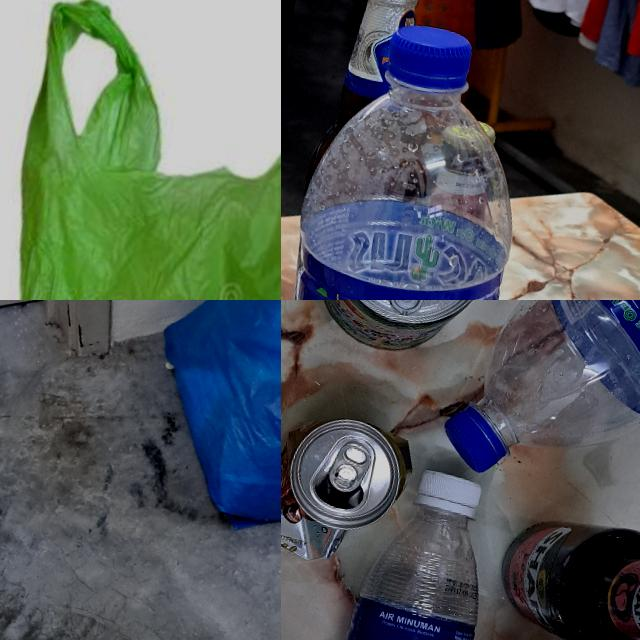aba de lata: (326, 436, 372, 496), (378, 300, 436, 317)
garrafa de vidro: (301, 0, 463, 245), (490, 508, 640, 640)
garrafa plástica: (281, 74, 534, 300), (471, 300, 640, 474), (317, 497, 496, 640)
lata: (281, 401, 420, 577), (311, 300, 504, 365)
sacola plástica: (0, 0, 281, 300), (131, 300, 281, 552)
tampa plástica: (384, 20, 476, 90), (436, 403, 512, 476), (413, 469, 482, 520)
